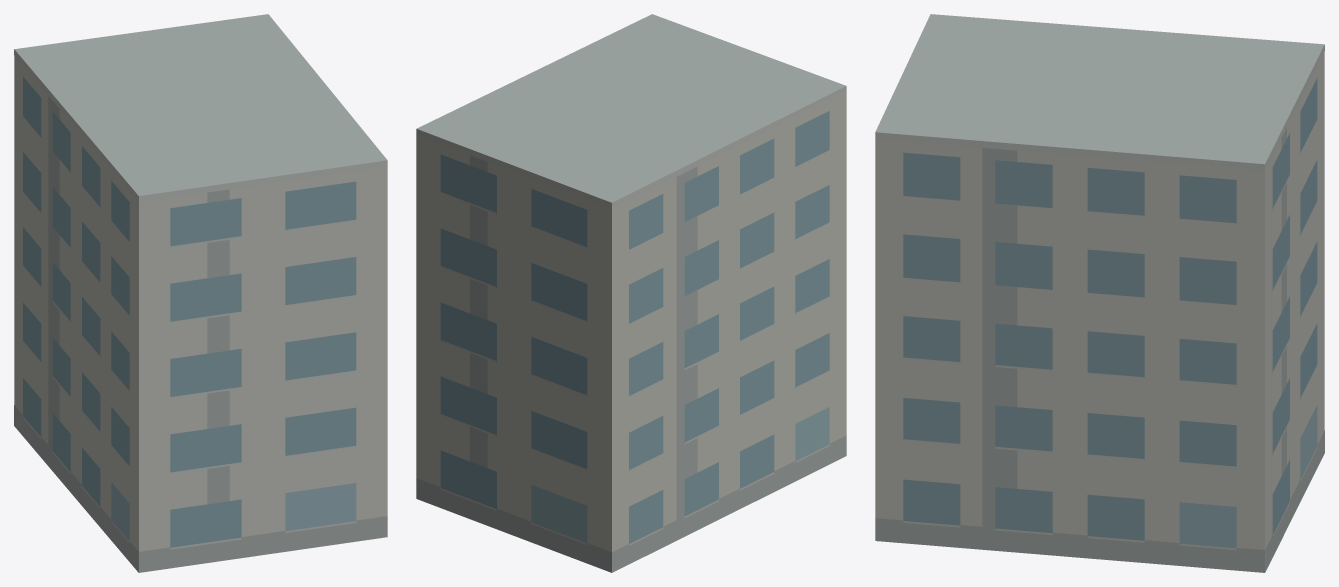
File: survey-upis-32947994.glb
The picture shows the model from 3 angles, left to right: view 1: azimuth 30°, elevation 25°; view 2: azimuth 150°, elevation 25°; view 3: azimuth 270°, elevation 25°; orthographic projection. The views are drawn at different scales.
Parts seen in each view (by area): view 1: survey-upis-32947994.tmp; view 2: survey-upis-32947994.tmp; view 3: survey-upis-32947994.tmp.
Boxes of the visible parts, x1,y1,x2,y2 form: survey-upis-32947994.tmp: (14,14,387,572); survey-upis-32947994.tmp: (416,14,846,572); survey-upis-32947994.tmp: (875,14,1324,572).
Bounding box in the file's own units: 11.44 × 14.5 × 14.47.
